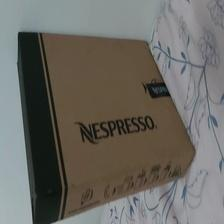box: (17, 30, 195, 224)
